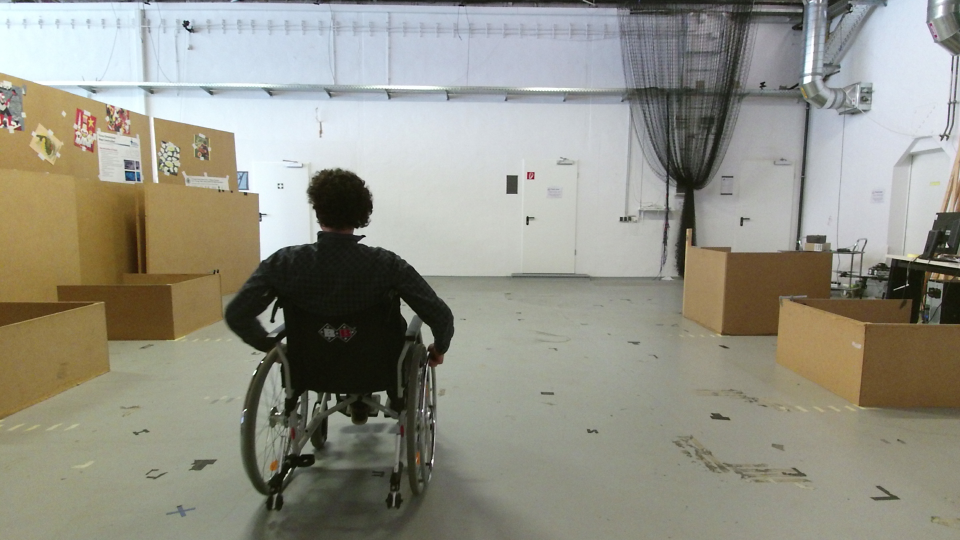wheelchair: (215, 168, 463, 525)
